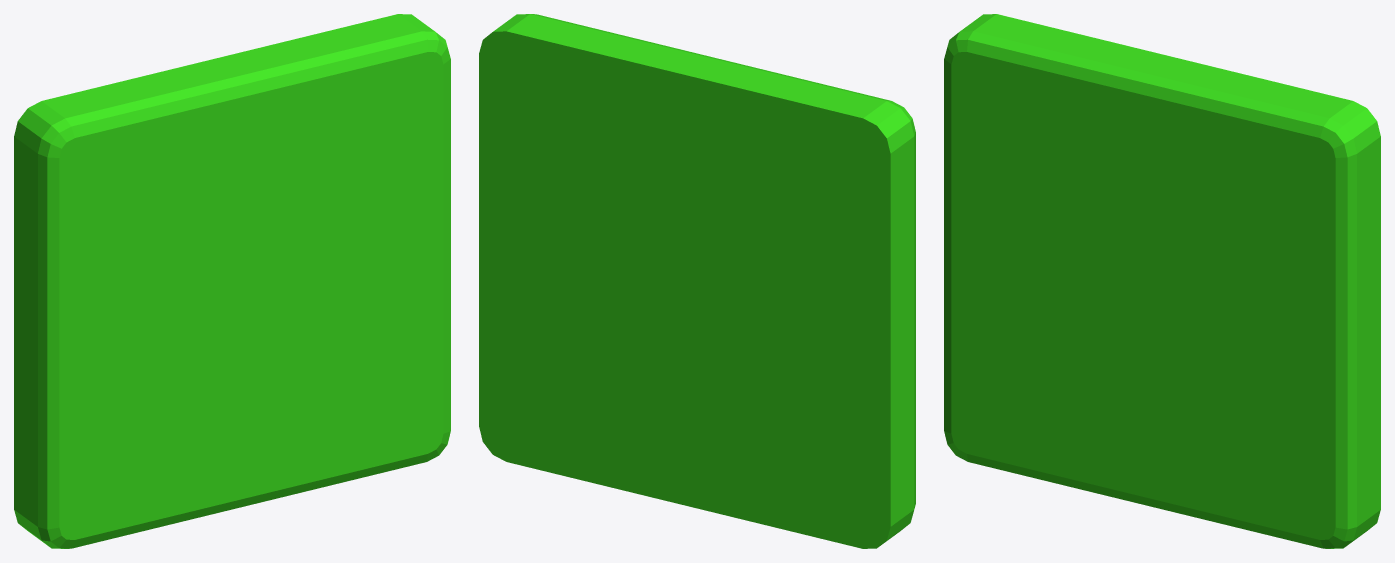
Rendered from wallPanel_m.fbx.
3 renders of one model, left to right at view 1: azimuth 30°, elevation 25°; view 2: azimuth 150°, elevation 25°; view 3: azimuth 330°, elevation 25°, orthographic.
Parts seen in each view (by area): view 1: wallPanel_m; view 2: wallPanel_m; view 3: wallPanel_m.
Boxes of the visible parts, x1,y1,x2,y2 form: wallPanel_m: [14, 14, 450, 548]; wallPanel_m: [479, 14, 915, 548]; wallPanel_m: [944, 14, 1380, 548].
Size of the model in its own units: 300 by 300 by 40.
